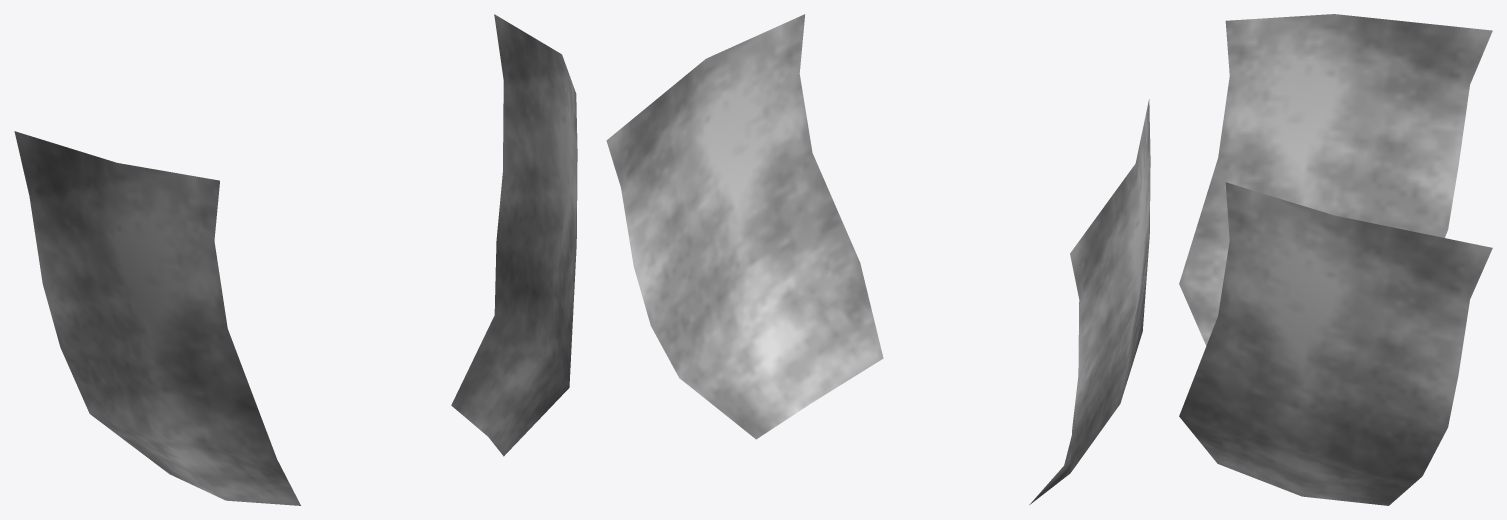
Rendered from helmet_morrion_p.dae.
3 views of the same model, side by side, from view 1: azimuth 30°, elevation 25°; view 2: azimuth 150°, elevation 25°; view 3: azimuth 270°, elevation 25° (orthographic). The views are drawn at different scales.
Parts seen in each view (by area): view 1: helmet_p; view 2: helmet_p; view 3: helmet_p.
Boxes of the visible parts, <box> form: helmet_p: <box>14,14,577,505</box>; helmet_p: <box>606,14,1150,504</box>; helmet_p: <box>1179,14,1492,505</box>.
Size of the model in its own units: 0.4568 by 0.2788 by 0.3339.
